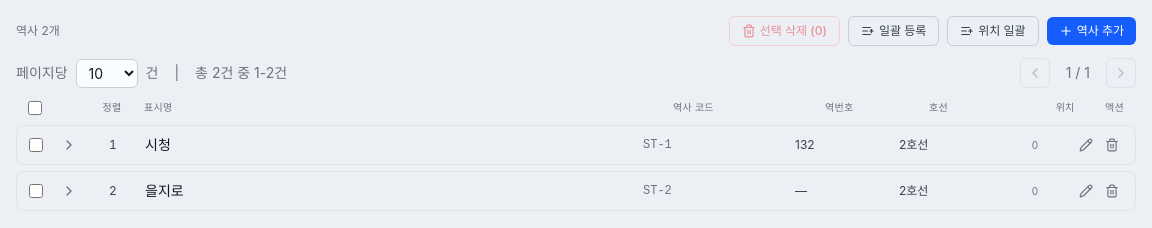
Test: XsfmStationsTab 다중선택 삭제 › 전체선택은 보이는 역사 전체를 선택하고 "선택 삭제(N)" 카운트에 반영된다
Expected: the button "선택 삭제 (0)" is disabled, [729,16,840,46]
Click the checkbox named "전체 선택". click: (35, 108)
box: [28,100,42,114]
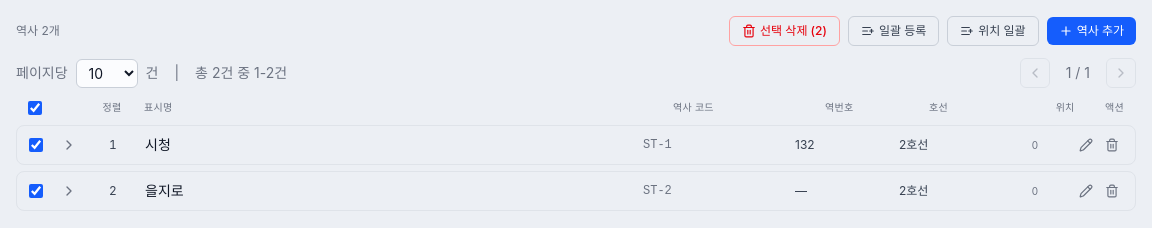
Now the button "선택 삭제 (2)" is enabled, box [729,16,840,46]
Now the button "선택 삭제 (2)" is shown, box [729,16,840,46]
